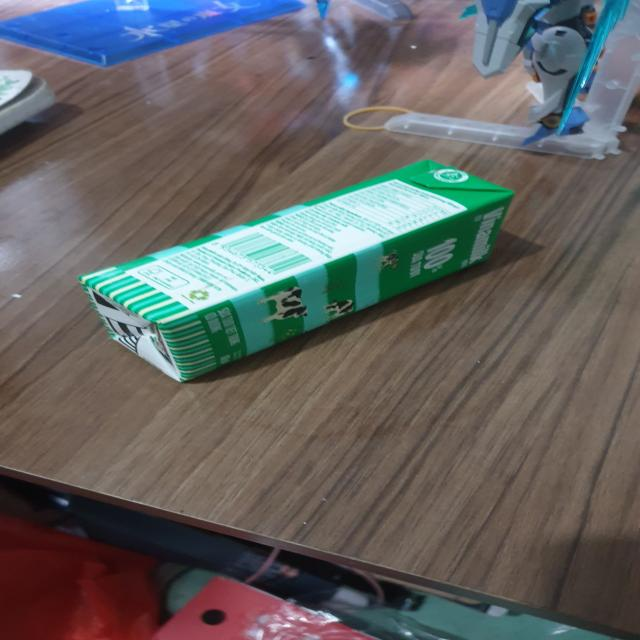Vina: (86, 157, 515, 388)
